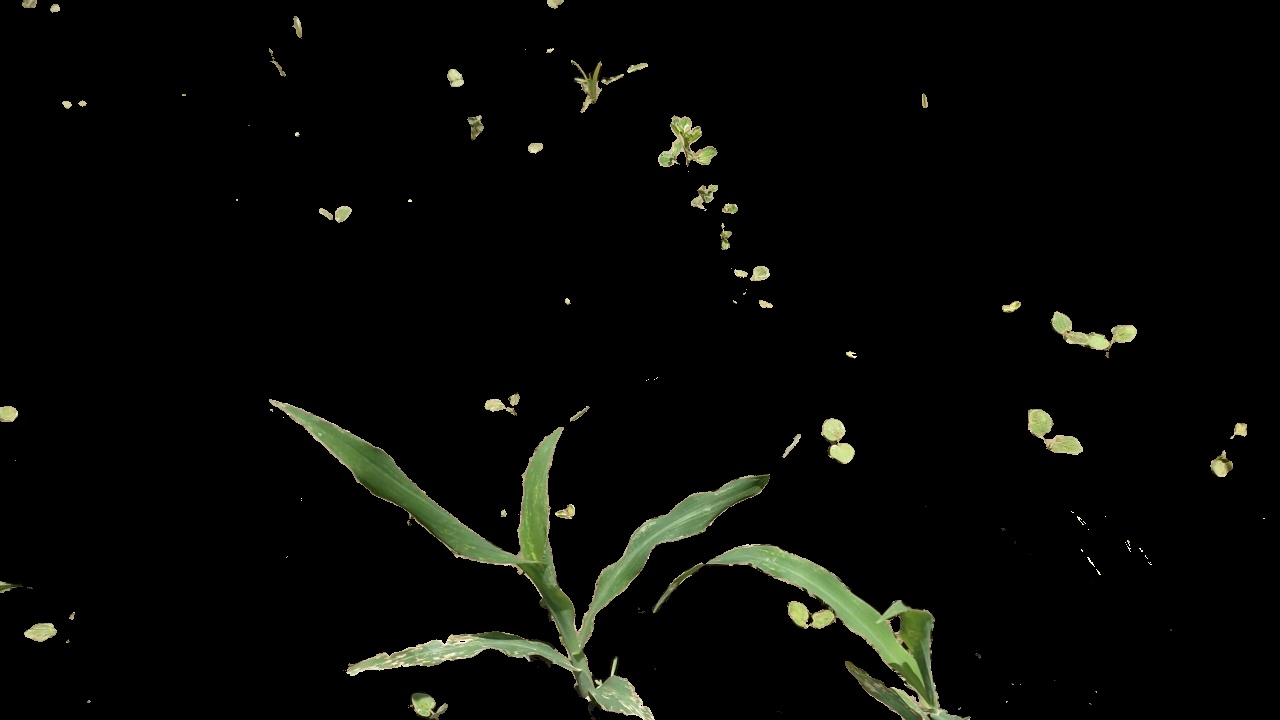crop: (255, 395, 718, 720), (669, 544, 952, 720)
weed: (1053, 299, 1141, 365), (653, 111, 729, 179), (570, 50, 646, 113), (1018, 398, 1085, 458), (1212, 415, 1255, 487), (819, 411, 863, 465), (306, 195, 368, 229), (406, 685, 461, 720), (782, 602, 829, 642), (479, 394, 533, 422), (729, 262, 776, 288), (688, 187, 725, 211), (441, 67, 471, 91)
